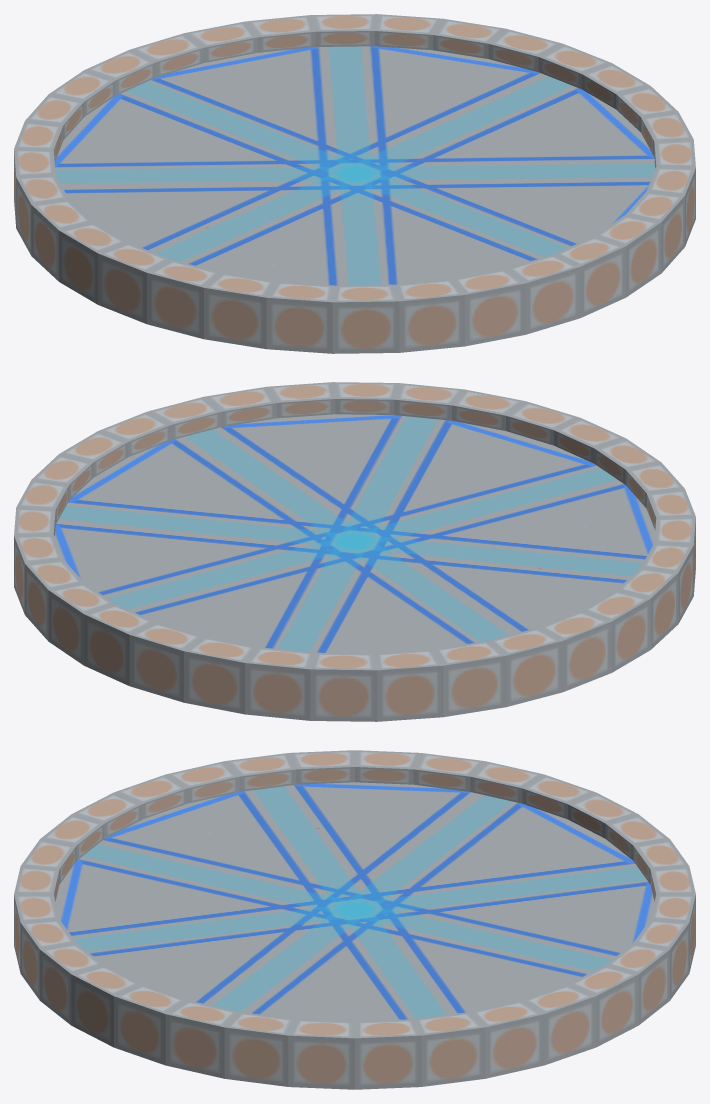
The model's file is Esy_Disc_LODGroup.fbx.
3 views of the same model, one above another, from view 1: azimuth 30°, elevation 25°; view 2: azimuth 150°, elevation 25°; view 3: azimuth 270°, elevation 25° (orthographic).
Parts seen in each view (by area): view 1: ESY Disc_LOD0; view 2: ESY Disc_LOD0; view 3: ESY Disc_LOD0.
Boxes of the visible parts, x1,y1,x2,y2 form: ESY Disc_LOD0: (14,14,695,353); ESY Disc_LOD0: (14,382,695,721); ESY Disc_LOD0: (14,750,695,1089).
Size of what is drawn, in the model's own units: 3.11 by 0.2584 by 3.11.
Materials: 1 (1 with a texture image).
